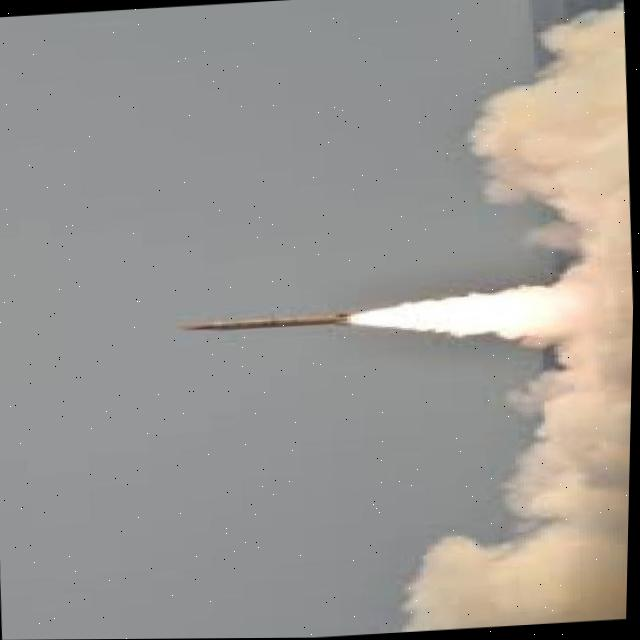missile: (186, 303, 371, 357)
